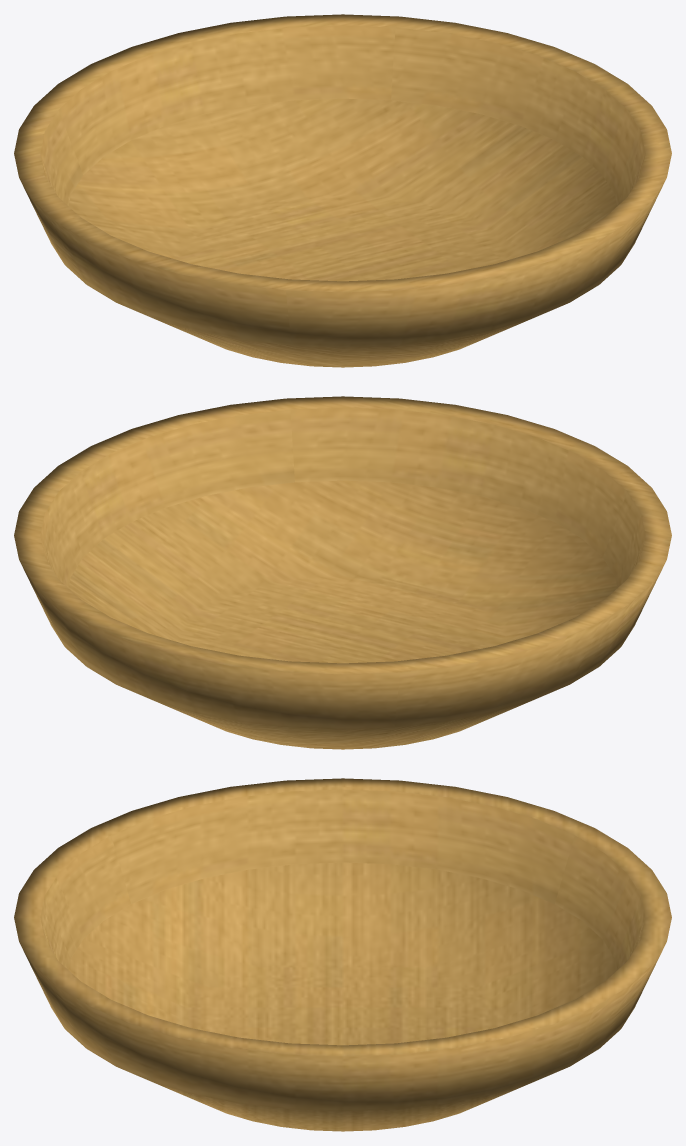
File: foyer_bowl.glb
3 renders of one model, top to bottom at view 1: azimuth 30°, elevation 25°; view 2: azimuth 150°, elevation 25°; view 3: azimuth 270°, elevation 25°, orthographic.
Visible parts, largest first — view 1: foyer_bowl; view 2: foyer_bowl; view 3: foyer_bowl.
Part boxes in pixels (bbox=[...]): foyer_bowl: bbox=[14, 14, 671, 367]; foyer_bowl: bbox=[14, 396, 671, 749]; foyer_bowl: bbox=[14, 778, 671, 1131].
Bounding box in the file's own units: 0.26 × 0.06 × 0.26.
1 material, 1 textured.
